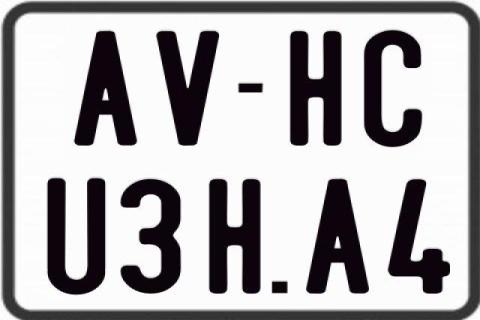0: (120, 178, 186, 294), (389, 177, 454, 293)
A: (74, 31, 139, 148), (304, 179, 370, 293)
C: (364, 30, 422, 148)
H: (208, 180, 261, 296), (287, 30, 339, 146)
U: (45, 176, 105, 292)
V: (158, 29, 223, 145)
